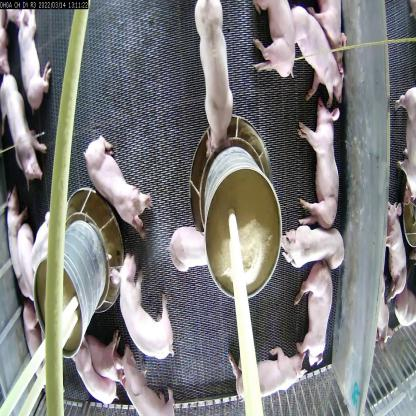Pig: (190, 0, 240, 156), (79, 134, 154, 236), (110, 256, 176, 366), (298, 101, 342, 227), (8, 0, 56, 111), (294, 3, 344, 107), (116, 345, 179, 415), (2, 68, 41, 180), (229, 350, 303, 408), (252, 0, 300, 78), (297, 264, 331, 373), (70, 343, 117, 406), (288, 219, 344, 265), (168, 223, 216, 274), (80, 327, 124, 382), (14, 223, 35, 304), (20, 300, 41, 378), (30, 211, 54, 278), (3, 188, 16, 261)
